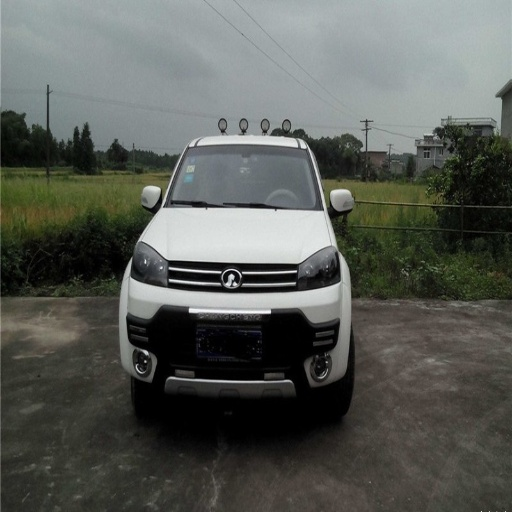front_bumper: (125, 262, 347, 397)
front_right_light: (130, 243, 166, 285)
hood: (148, 208, 331, 263)
